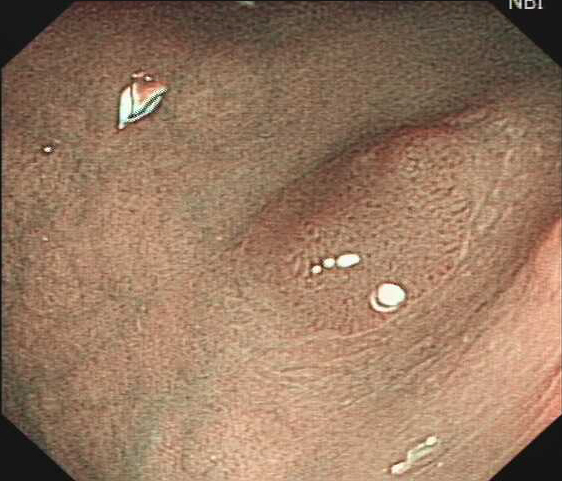adenoma: (232, 115, 482, 330)
